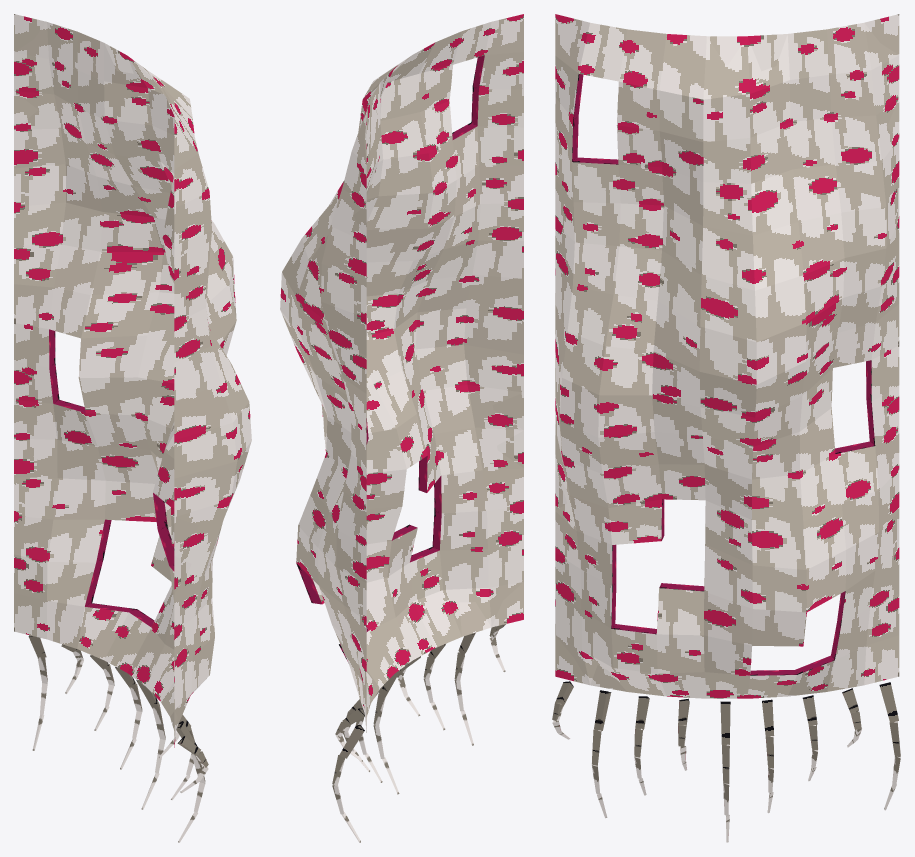
The model's file is NIE-08_Manto_de_torre.gltf.
3 views of the same model, side by side, from view 1: azimuth 30°, elevation 25°; view 2: azimuth 150°, elevation 25°; view 3: azimuth 270°, elevation 25° (orthographic). The views are drawn at different scales.
Parts seen in each view (by area): view 1: NIE-08_Manto_de_torre; view 2: NIE-08_Manto_de_torre; view 3: NIE-08_Manto_de_torre.
Boxes of the visible parts, bbox=[...] form: NIE-08_Manto_de_torre: bbox=[14, 14, 251, 842]; NIE-08_Manto_de_torre: bbox=[280, 14, 523, 842]; NIE-08_Manto_de_torre: bbox=[552, 14, 900, 842].
Bounding box in the file's own units: 1.57 × 7.28 × 2.86.
1 material, 1 textured.
